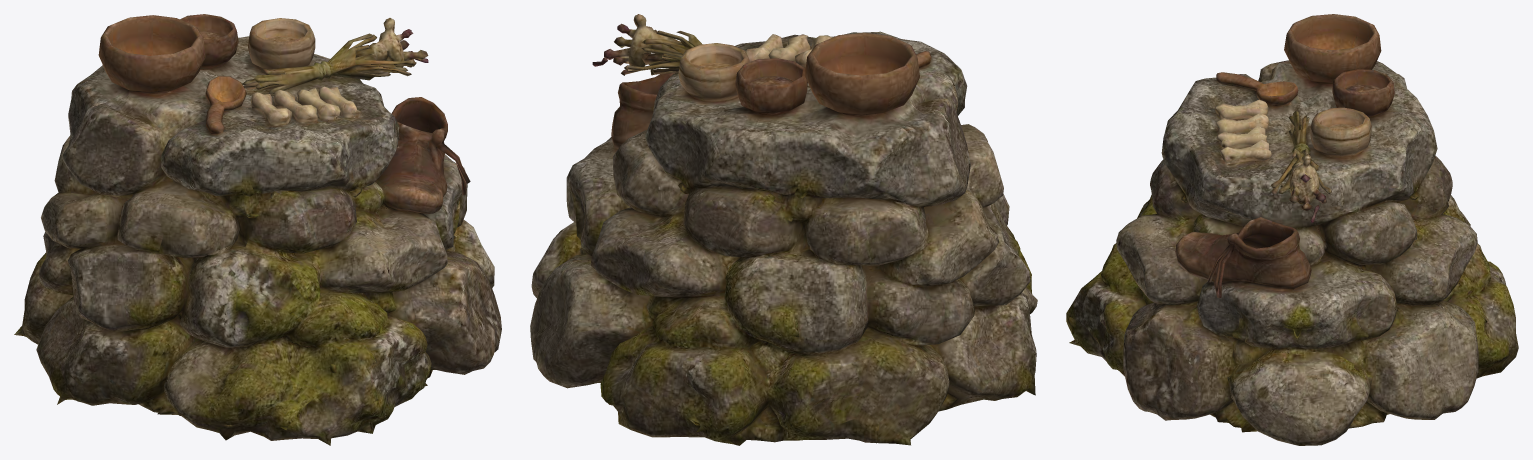
File: cw_offering_cairn.glb
3 renders of one model, left to right at view 1: azimuth 30°, elevation 25°; view 2: azimuth 150°, elevation 25°; view 3: azimuth 270°, elevation 25°, orthographic. The views are drawn at different scales.
Parts seen in each view (by area): view 1: cw_offering_cairn; view 2: cw_offering_cairn; view 3: cw_offering_cairn.
Boxes of the visible parts, x1,y1,x2,y2 form: cw_offering_cairn: (14, 14, 501, 445); cw_offering_cairn: (530, 14, 1037, 445); cw_offering_cairn: (1066, 14, 1518, 445).
Size of the model in its own units: 1.2 by 0.8196 by 1.19.
1 material, 1 textured.
